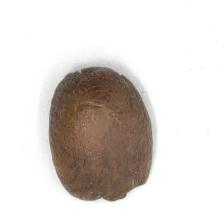NG: (85, 174, 148, 203)
